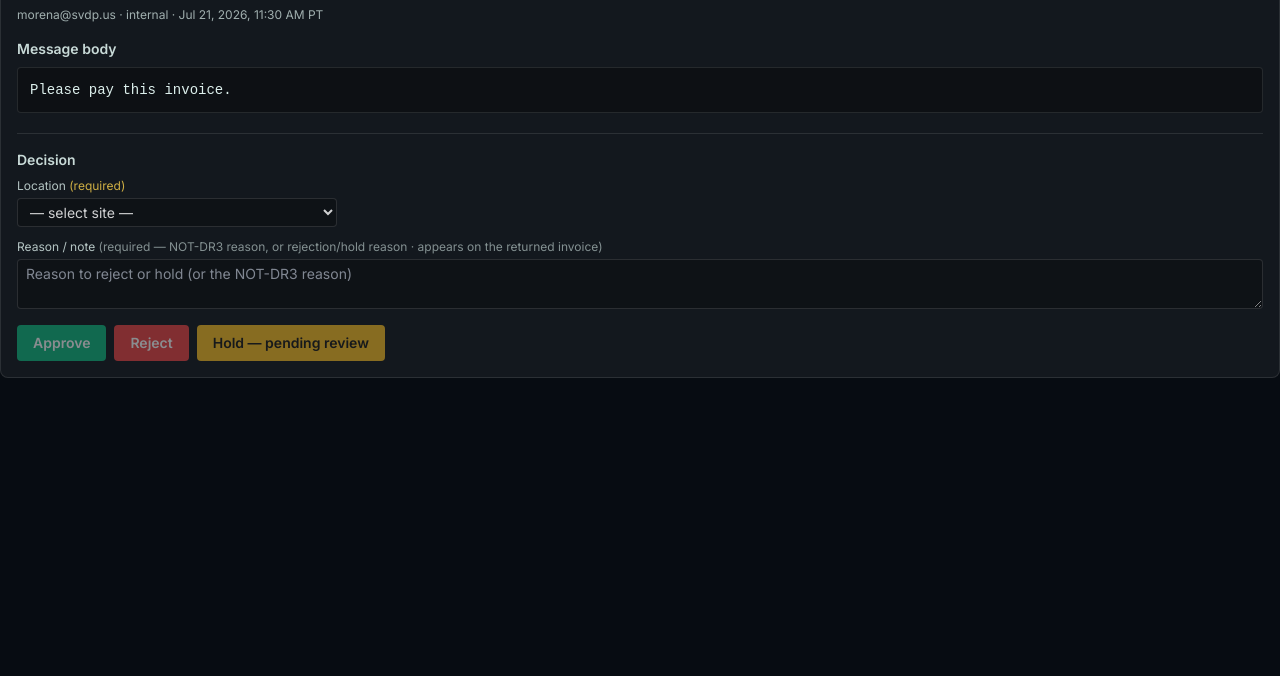
DetailPanel — structured "Equipment not in list" hatch (ADR-0135 E) › keeps Approve disabled until the request is valid — one unit only
The image size is (1280, 676).
Select "Woodland" in the dropdown at (177, 212), box [17,198,337,227]
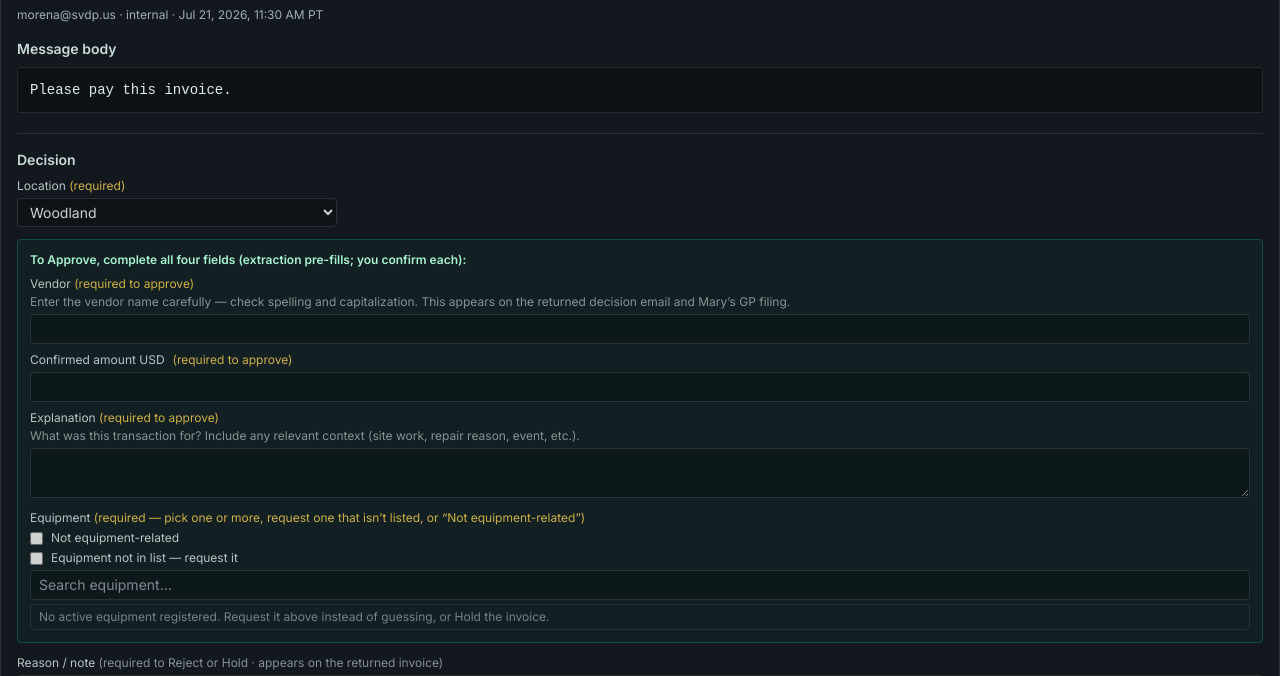
Type "Sunbelt Rentals" into the field labelled "Enter the vendor name carefully" at (640, 329), box [30,314,1250,344]
Type "125.00" into the field labelled "Confirmed amount USD (required to approve)" at (640, 387), box [30,372,1250,402]
Type "trailer repair" into the text box labelled "What was this transaction for" at (640, 473), box [30,448,1250,498]
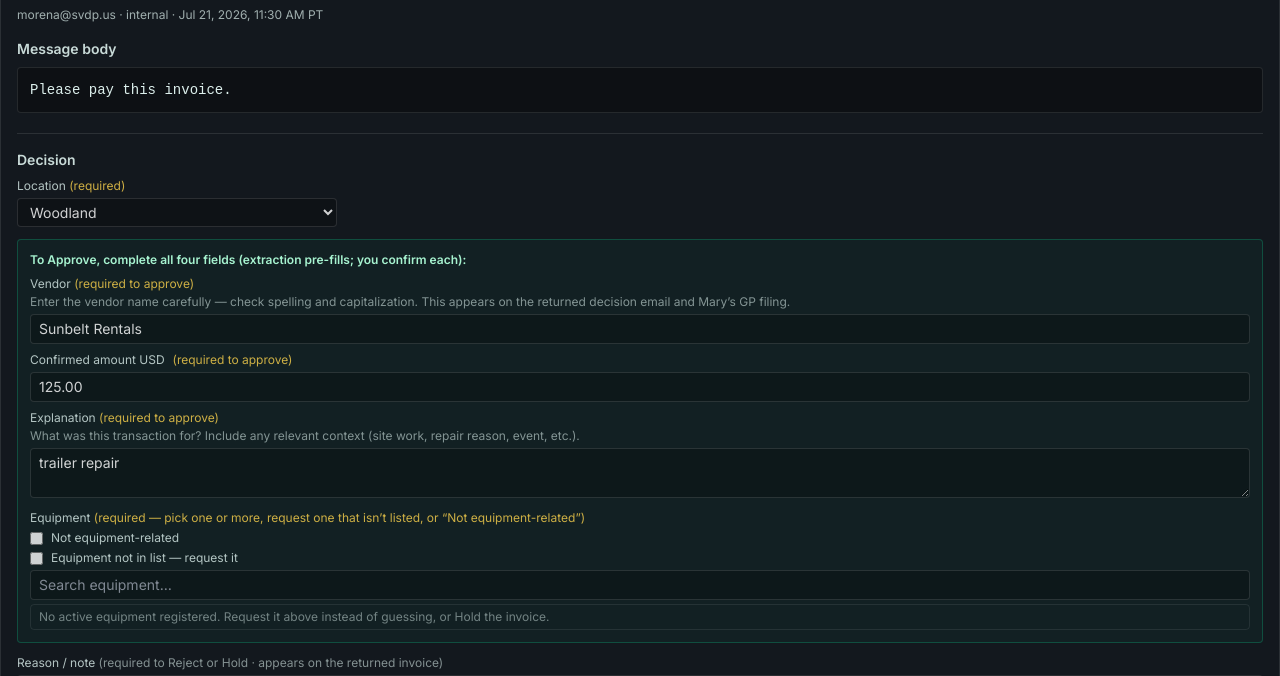
Click the checkbox with test id "ap-equipment-not-listed" at (36, 558), box [30,552,43,564]
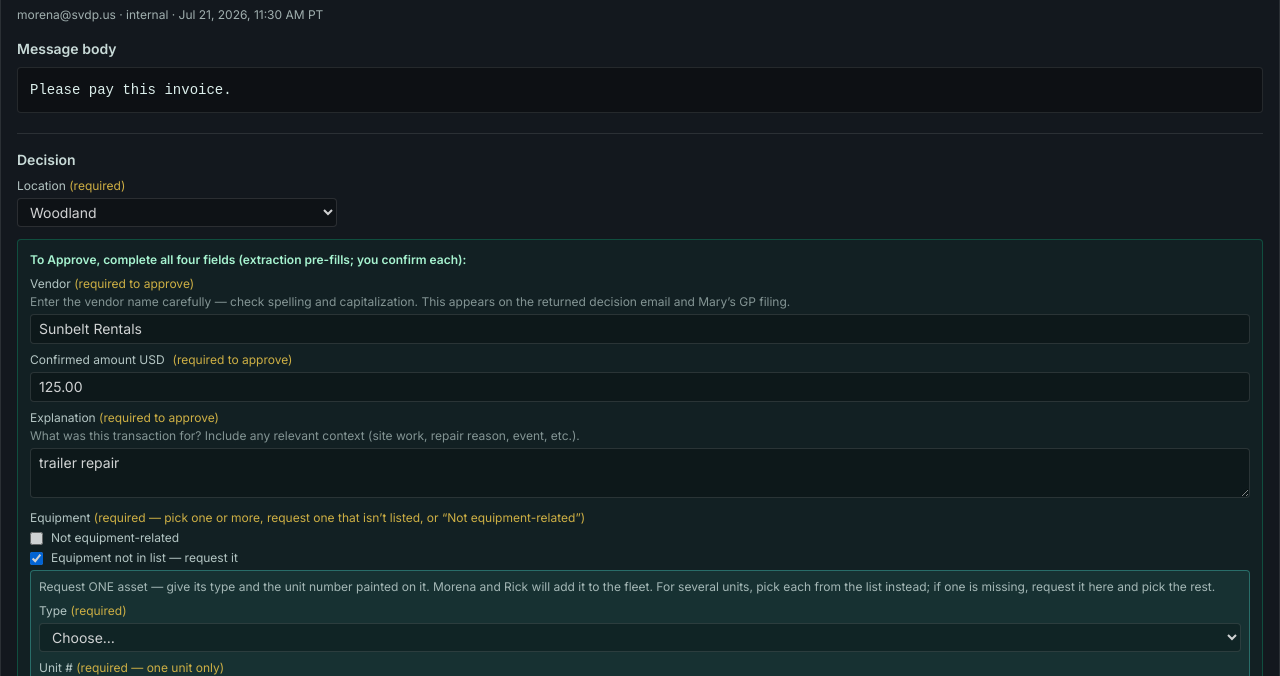
Select "Trailer" in the dropdown with test id "ap-equipment-request-type" at (640, 638), box [39,623,1241,652]
(page scrolled)
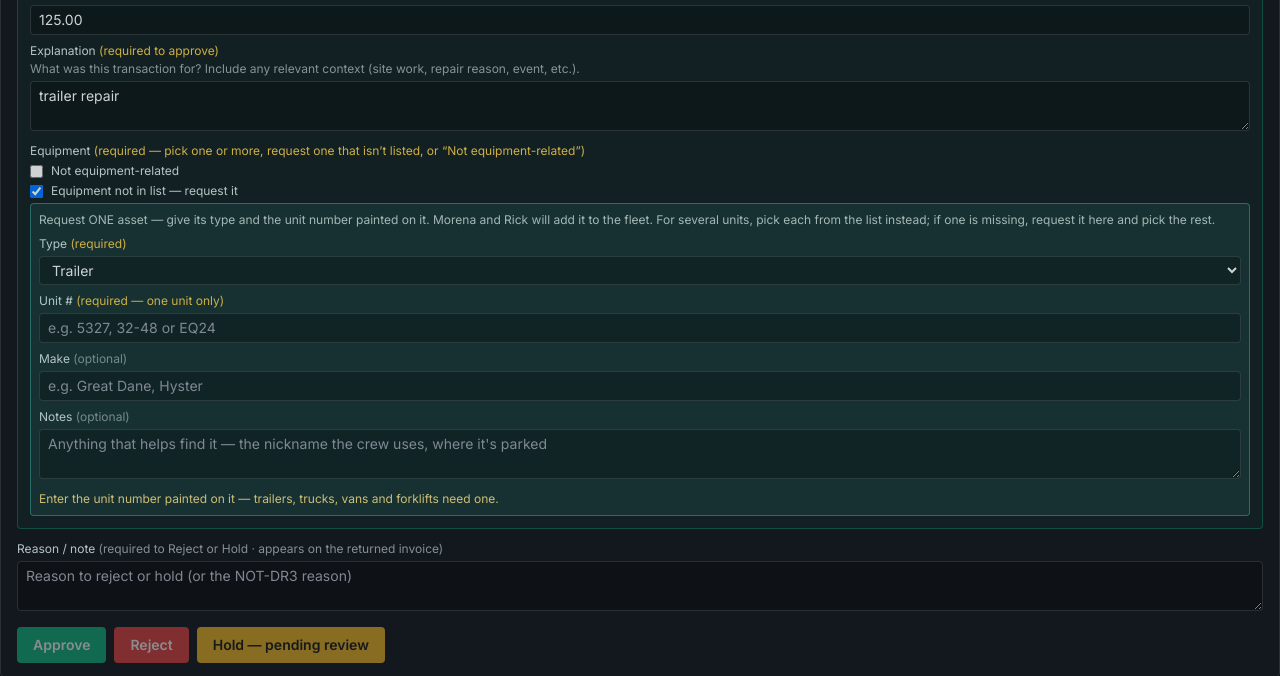
Check: the button "Approve" is disabled, box [17,627,106,663]
Check: the text with test id "ap-equipment-request-problem" shows "Enter the unit number painted on it — trailers, trucks, vans and forklifts need one.", box [39,491,499,506]
Type "53489, 5340, 35" into the field with test id "ap-equipment-request-unit" at (640, 328), box [39,313,1241,343]
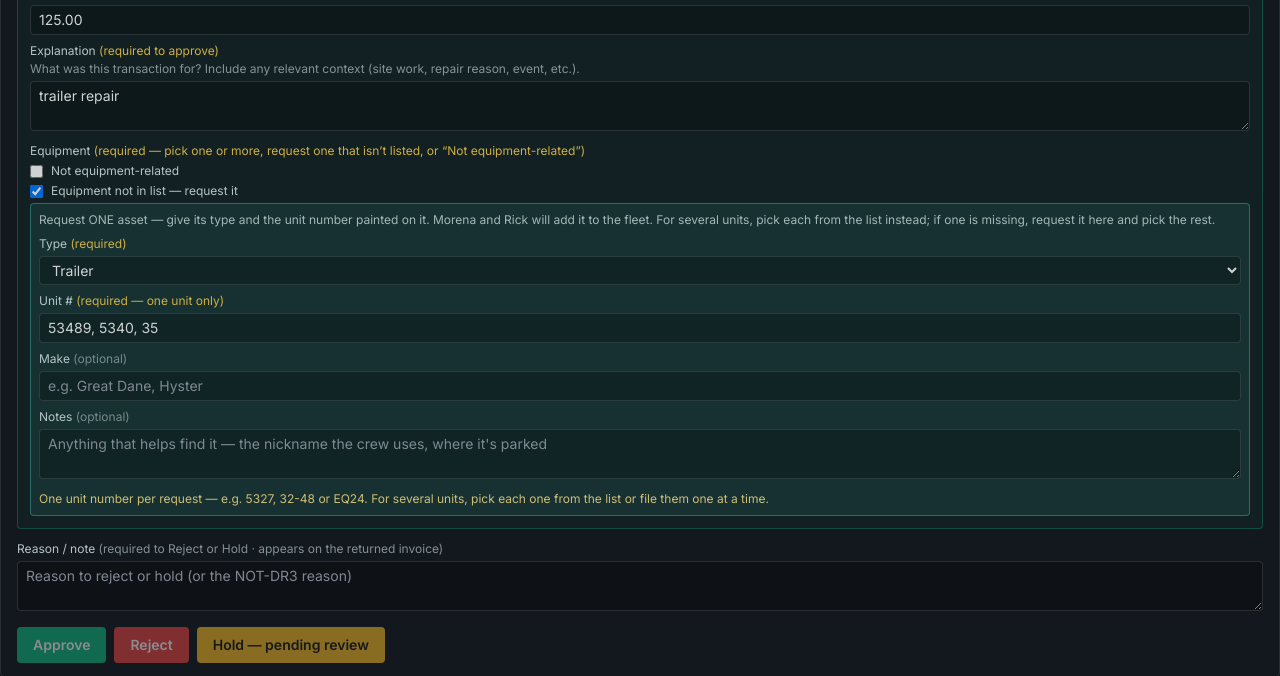
Check: the button "Approve" is disabled, box [17,627,106,663]
Check: the text with test id "ap-equipment-request-problem" shows "One unit number per request — e.g. 5327, 32-48 or EQ24. For several units, pick each one from the list or file them one at a time.", box [39,491,769,506]
Replace the text in the field with test id "ap-equipment-request-unit" with "5327" at (640, 328), box [39,313,1241,343]
(page scrolled)
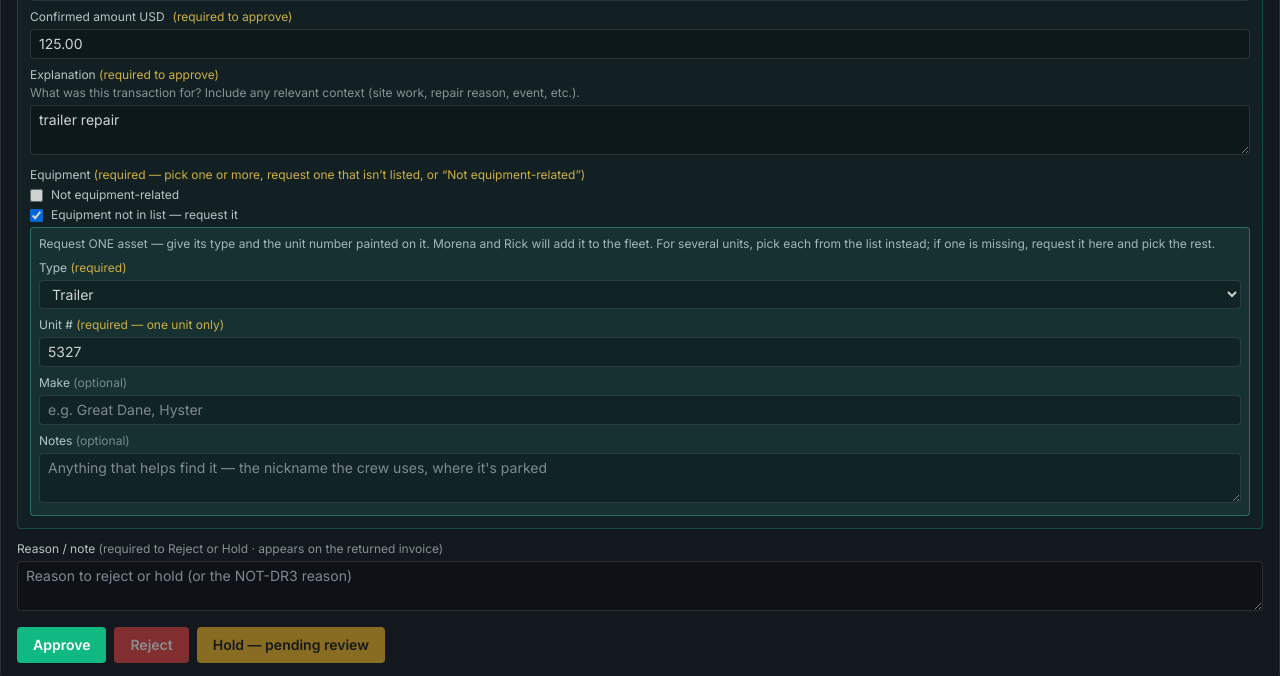
Check: the button "Approve" is enabled, box [17,627,106,663]
Check: the text with test id "ap-equipment-request-problem" is gone
